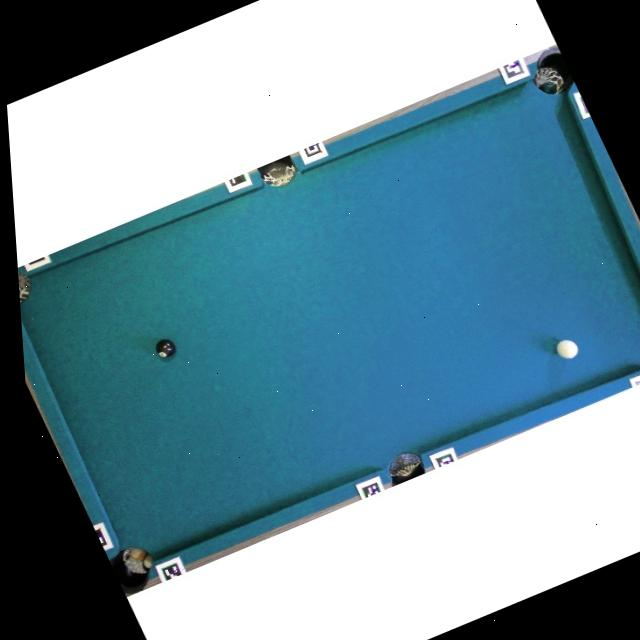cue ball: (551, 334, 581, 362)
other: (151, 334, 179, 360)
